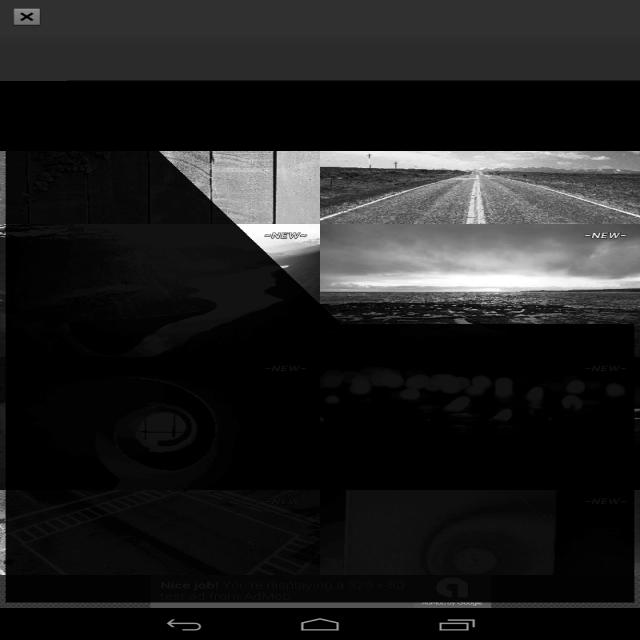Button: (13, 8, 42, 24)
ImageView: (150, 146, 638, 330)
